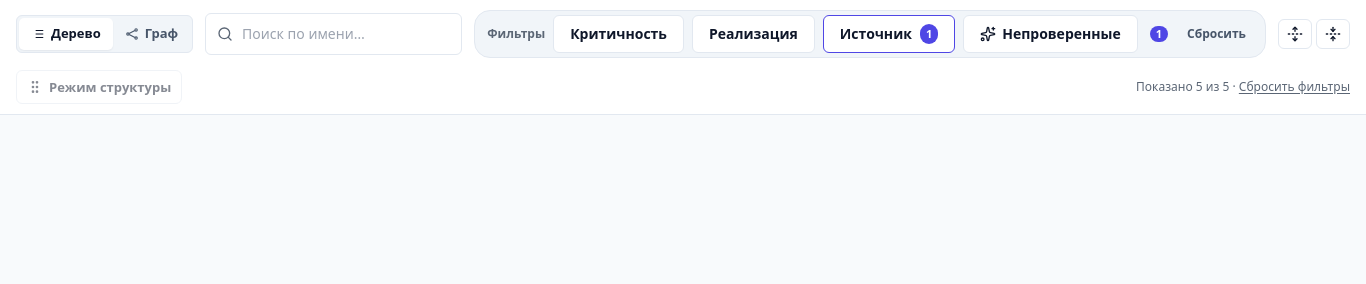
it: TreeToolbar (T-1101/1103/1105) › FR-19 · «Источник» dropdown › resets the applied source filter and closes the dropdown
Click the button with test id "source-filter". click: [889, 34]
box: [823,15,955,53]
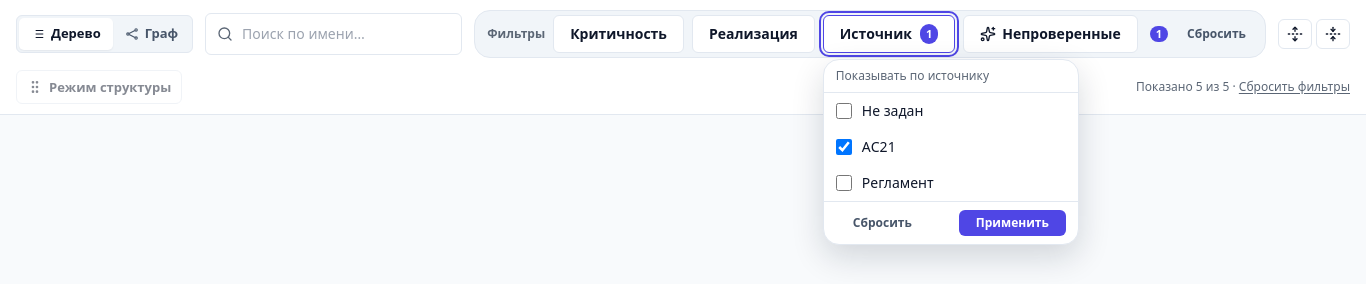
Click the button with test id "source-reset". click: [882, 223]
box: [836,210,929,236]
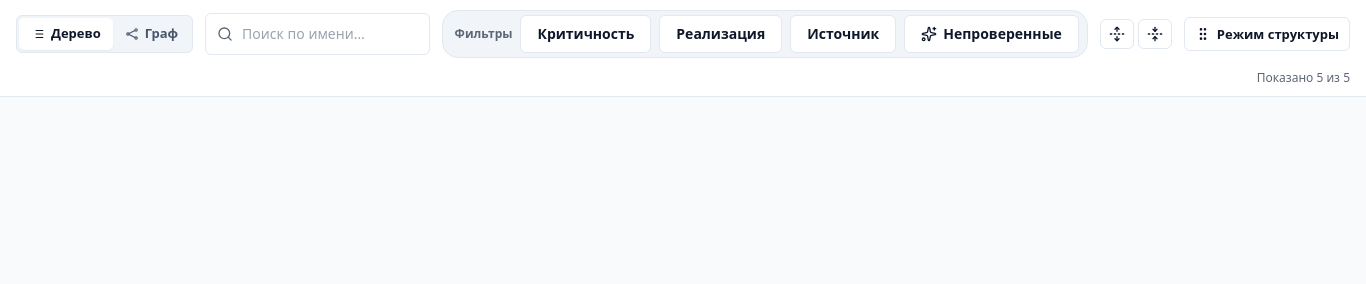
expect the element with test id "source-dropdown" is gone: met
